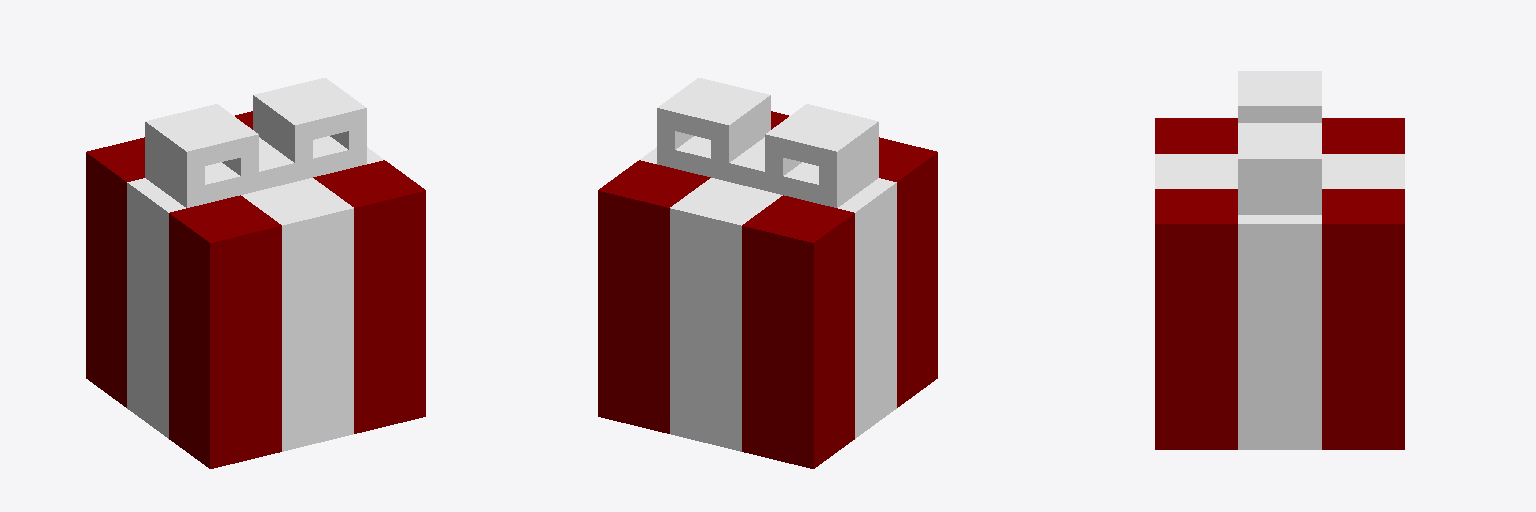
3 renders of one model, left to right at view 1: azimuth 30°, elevation 25°; view 2: azimuth 150°, elevation 25°; view 3: azimuth 270°, elevation 25°, orthographic.
Visible parts, largest first — view 1: object 1; view 2: object 1; view 3: object 1.
Part boxes in pixels (x1,y1,x2,y2): object 1: (86, 78, 425, 468); object 1: (598, 78, 937, 468); object 1: (1155, 71, 1404, 449).
Bounding box in the file's own units: 1.2 × 1.5 × 1.2.
1 materials, 1 textured.